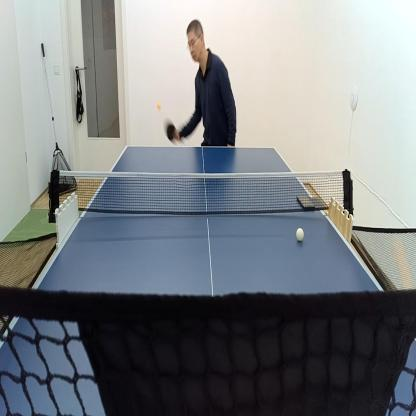Ball: (296, 228, 304, 240), (157, 103, 161, 111)
